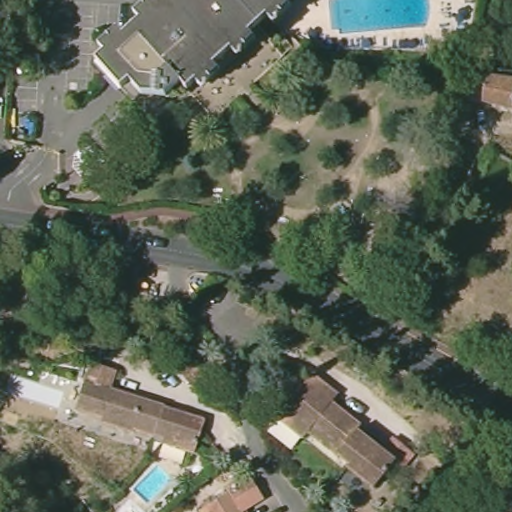pool: (326, 1, 431, 34), (134, 462, 171, 502)
